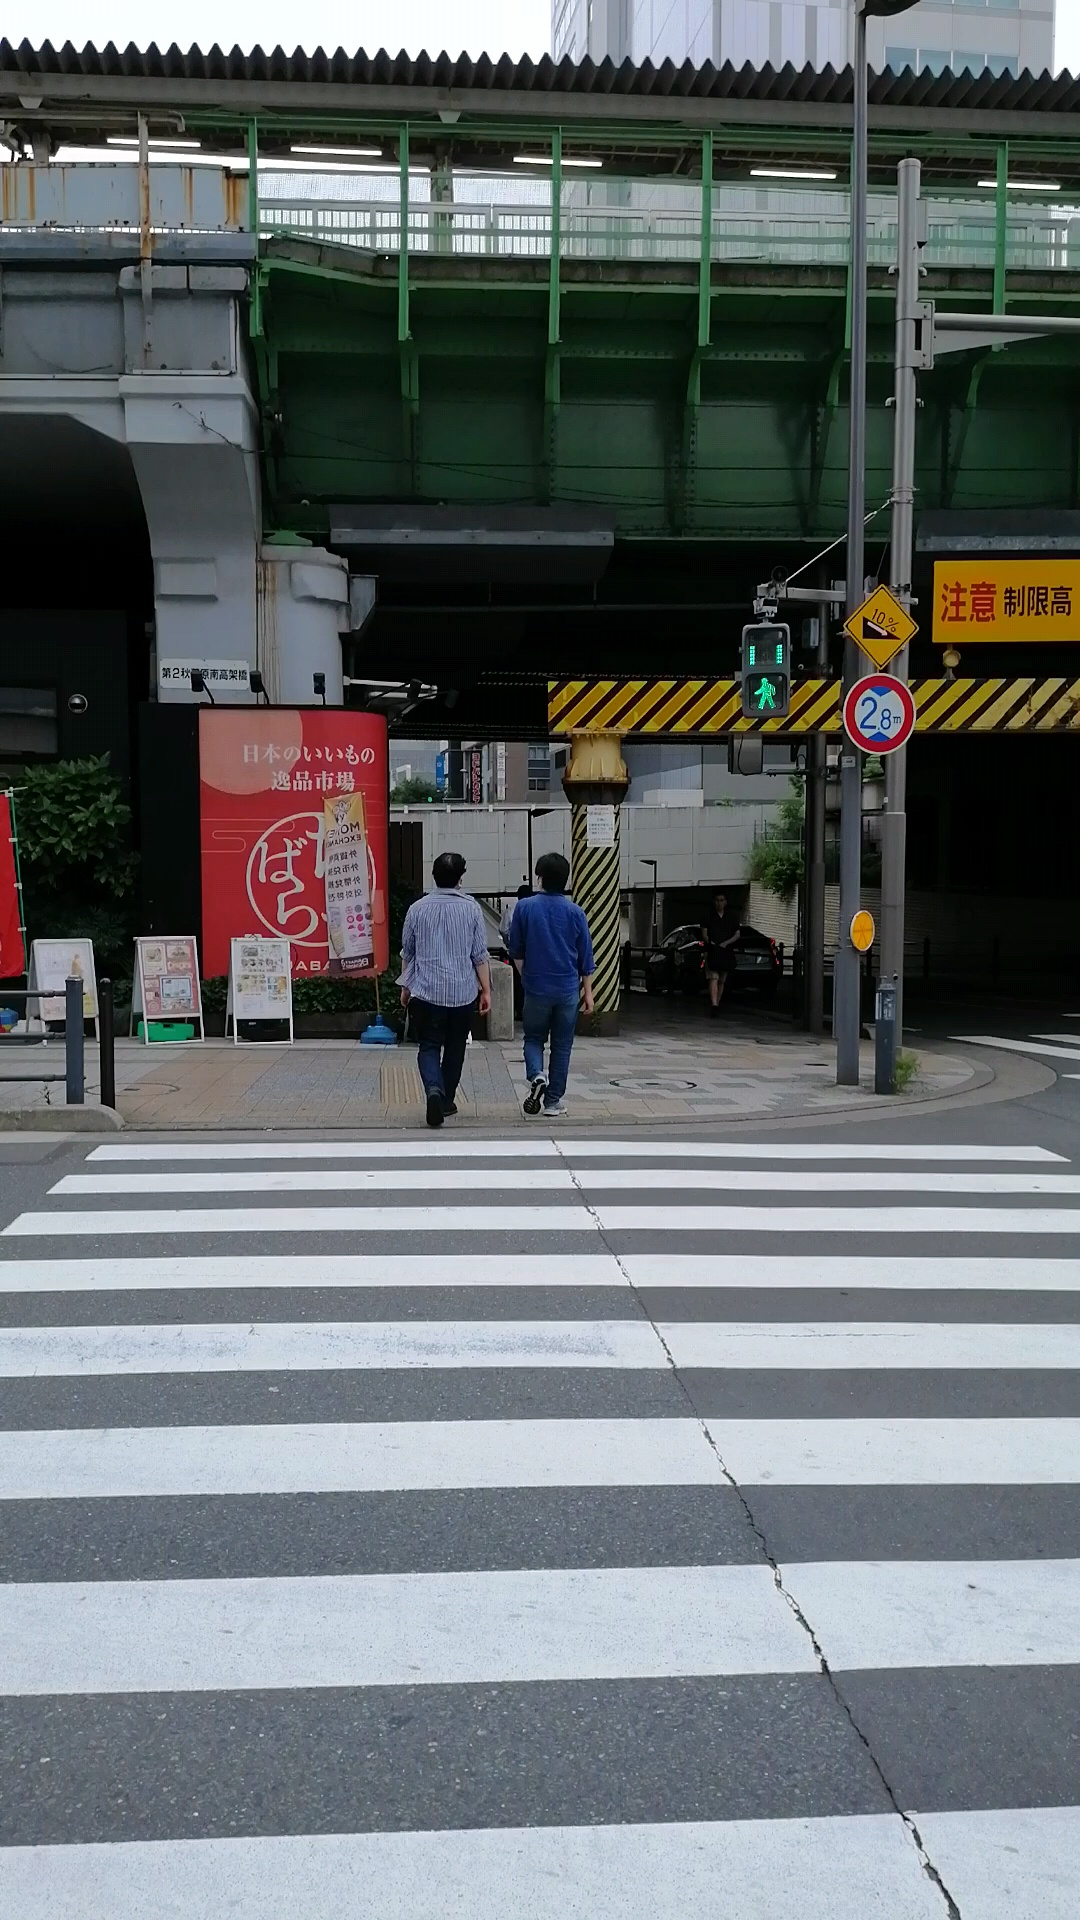green: (740, 624, 790, 717)
